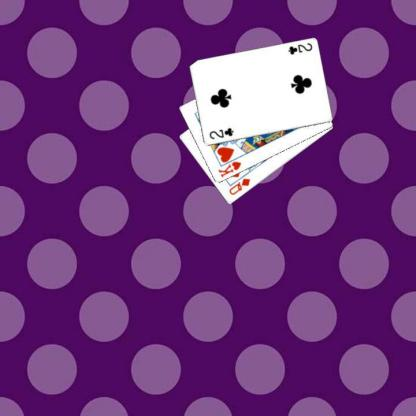2C: (286, 40, 313, 56), (206, 126, 235, 140)
KH: (216, 159, 242, 179)
QD: (226, 176, 251, 197)
